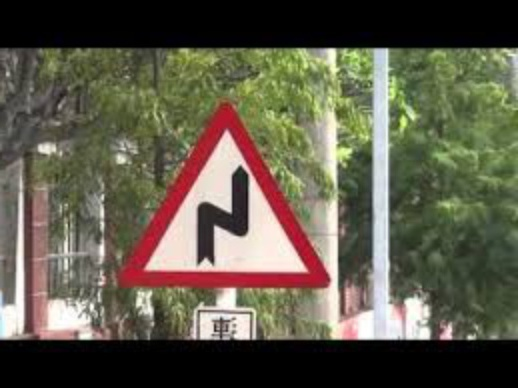Double_bend_right: (113, 99, 335, 290)
